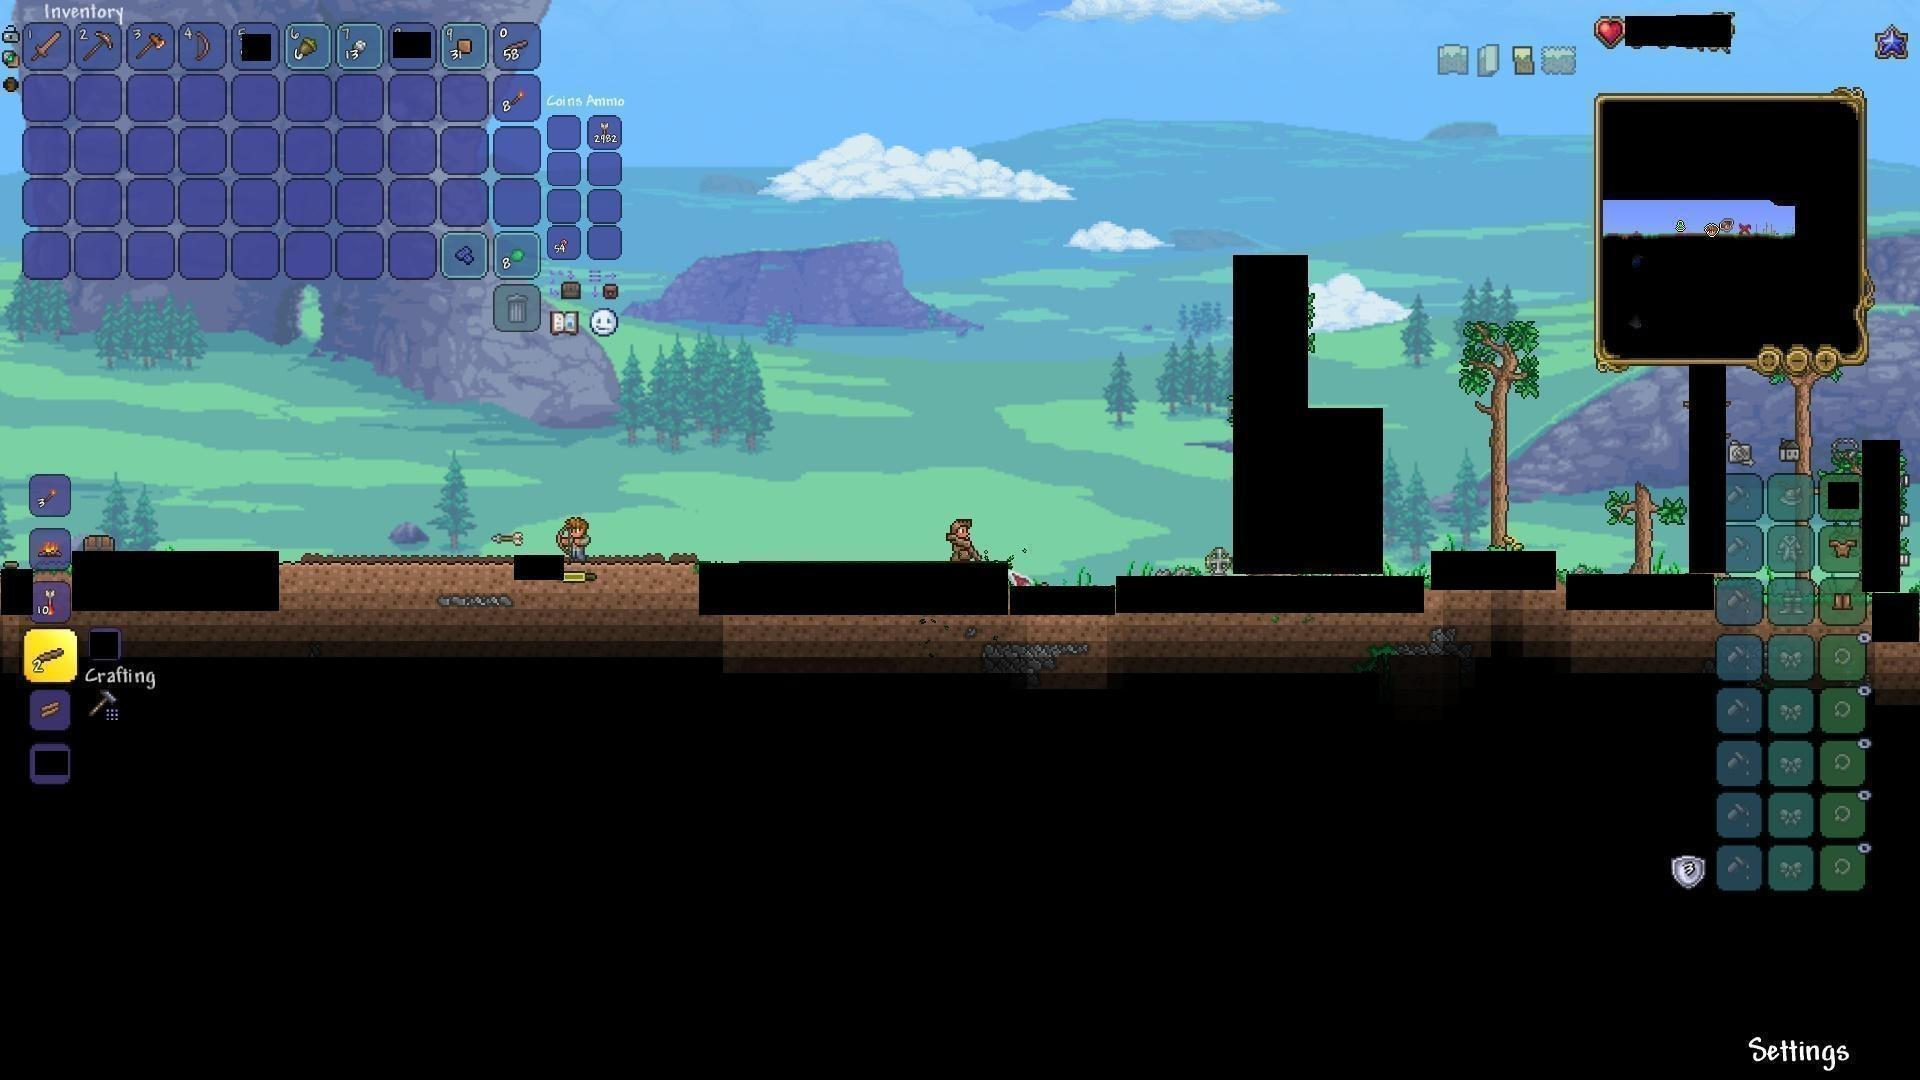breastplate: (1829, 537, 1858, 558)
heart: (1596, 15, 1625, 44)
legs: (1832, 585, 1857, 615)
tree: (1469, 309, 1535, 547), (1605, 477, 1665, 574)
wood: (36, 695, 65, 721)
